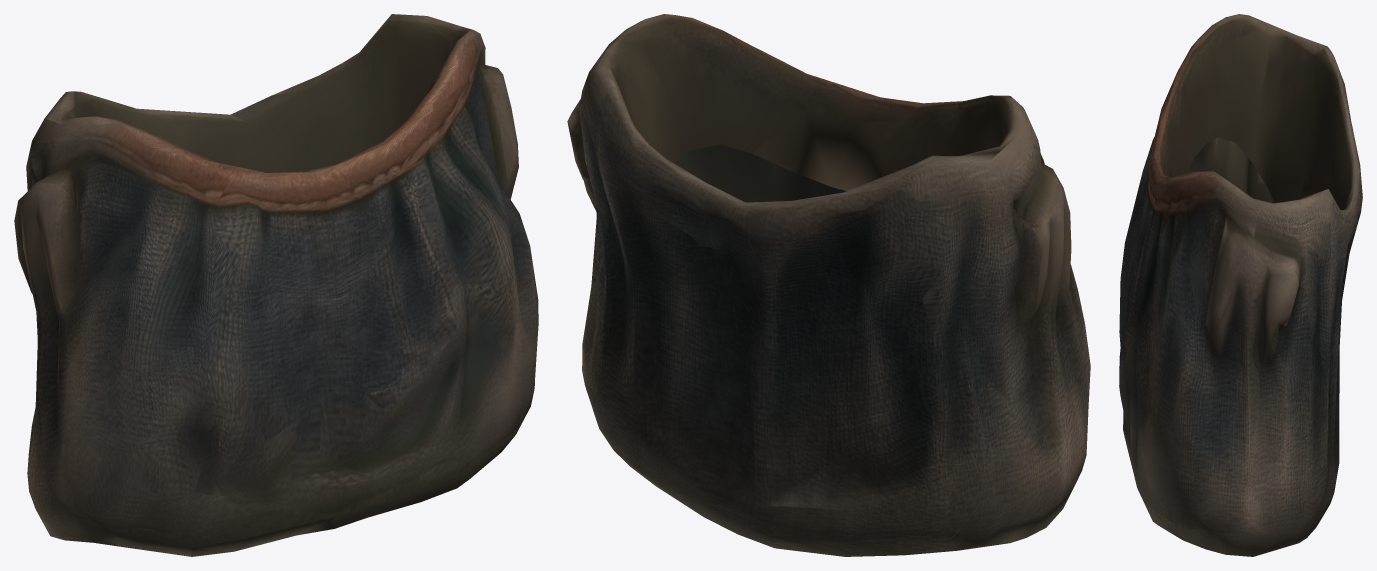
The model's file is SoftPouch.fbx.
3 views of the same model, side by side, from view 1: azimuth 30°, elevation 25°; view 2: azimuth 150°, elevation 25°; view 3: azimuth 270°, elevation 25° (orthographic). The views are drawn at different scales.
Parts seen in each view (by area): view 1: SoftPouch_LOD0; view 2: SoftPouch_LOD0; view 3: SoftPouch_LOD0.
Part boxes in pixels (box(x1,y1,x2,y2)): SoftPouch_LOD0: box(14, 14, 538, 556); SoftPouch_LOD0: box(567, 14, 1090, 556); SoftPouch_LOD0: box(1119, 14, 1362, 556).
Size of what is drawn, in the model's own units: 0.0981 by 0.0881 by 0.0481.
1 material, 1 textured.
